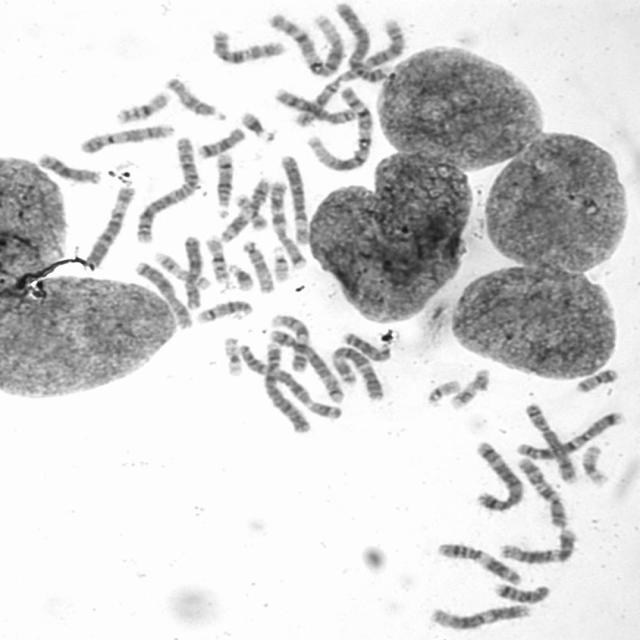A1: (302, 81, 376, 173), (264, 8, 348, 77)
A2: (288, 13, 408, 127), (131, 132, 202, 244)
A3: (231, 339, 346, 421), (327, 342, 387, 402)
B4: (256, 338, 312, 436), (333, 0, 394, 84)
B5: (264, 325, 346, 407), (469, 437, 526, 513)
C10: (513, 452, 571, 529), (206, 24, 288, 66)
C11: (433, 538, 526, 586), (215, 174, 273, 243)
C12: (426, 600, 535, 632), (496, 524, 581, 565)
C6: (80, 181, 138, 268), (276, 150, 311, 247)
C7: (512, 406, 628, 461), (266, 176, 310, 270)
C8: (520, 399, 580, 484), (269, 82, 359, 125)
C9: (76, 119, 177, 155), (266, 308, 312, 374)
D13: (33, 148, 103, 186), (338, 327, 394, 363)
D14: (192, 295, 254, 324), (210, 148, 236, 213)
D15: (161, 73, 226, 120), (238, 237, 277, 294)
E16: (111, 86, 173, 125), (202, 232, 231, 284)
E17: (148, 247, 214, 291), (445, 364, 492, 410)
E18: (194, 122, 248, 160), (490, 578, 552, 604)
F19: (577, 440, 612, 488), (218, 332, 246, 378)
F20: (571, 363, 622, 394), (231, 191, 269, 231)
G21: (236, 106, 278, 143), (224, 260, 256, 292)
G22: (422, 375, 462, 405), (268, 242, 292, 283)
X: (130, 257, 195, 330), (177, 232, 204, 310)
